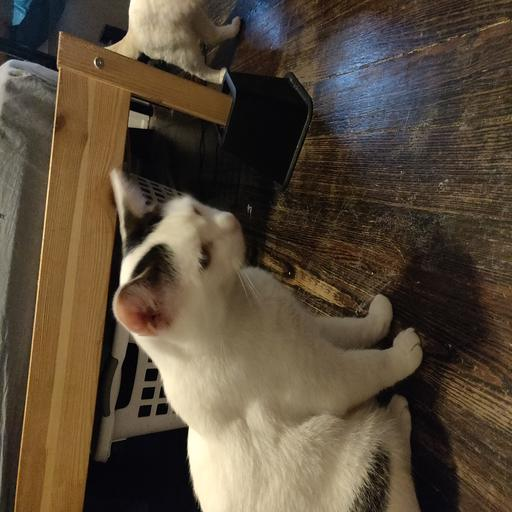cat: (98, 162, 442, 506)
